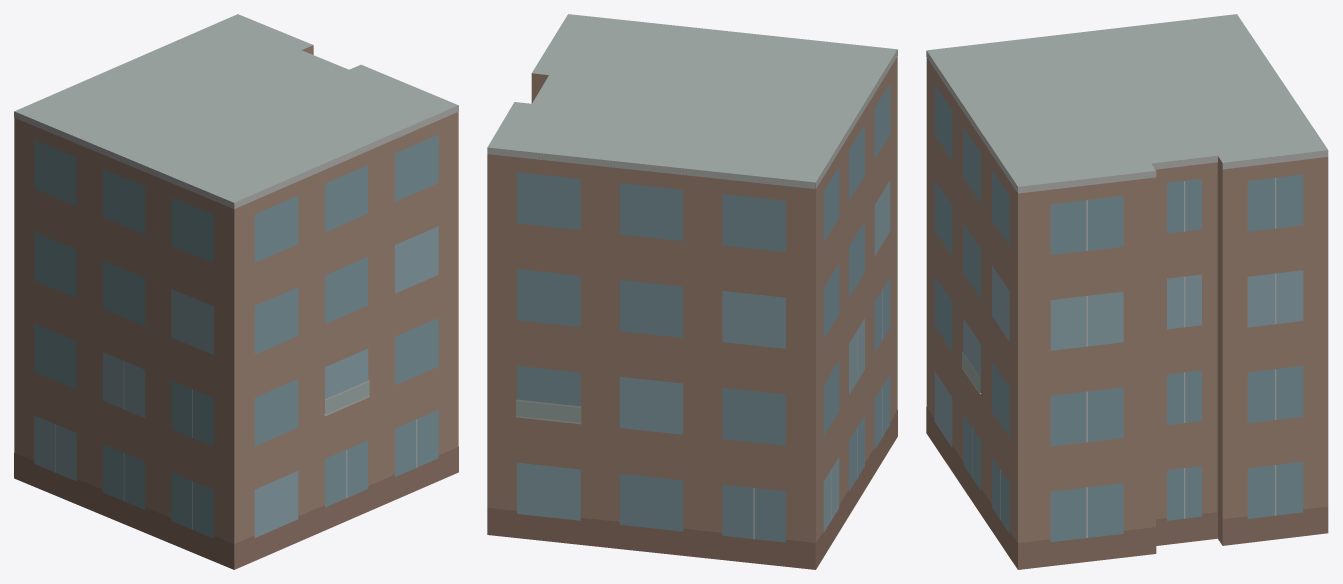
File: survey-upis-32806535.glb
3 views of the same model, side by side, from view 1: azimuth 30°, elevation 25°; view 2: azimuth 150°, elevation 25°; view 3: azimuth 270°, elevation 25° (orthographic). The views are drawn at different scales.
Parts seen in each view (by area): view 1: survey-upis-32806535.tmp; view 2: survey-upis-32806535.tmp; view 3: survey-upis-32806535.tmp.
Boxes of the visible parts, <box> form: survey-upis-32806535.tmp: <box>14,14,458,569</box>; survey-upis-32806535.tmp: <box>487,14,897,569</box>; survey-upis-32806535.tmp: <box>926,14,1328,569</box>.
Bounding box in the file's own units: 13.77 × 14.21 × 13.53.
